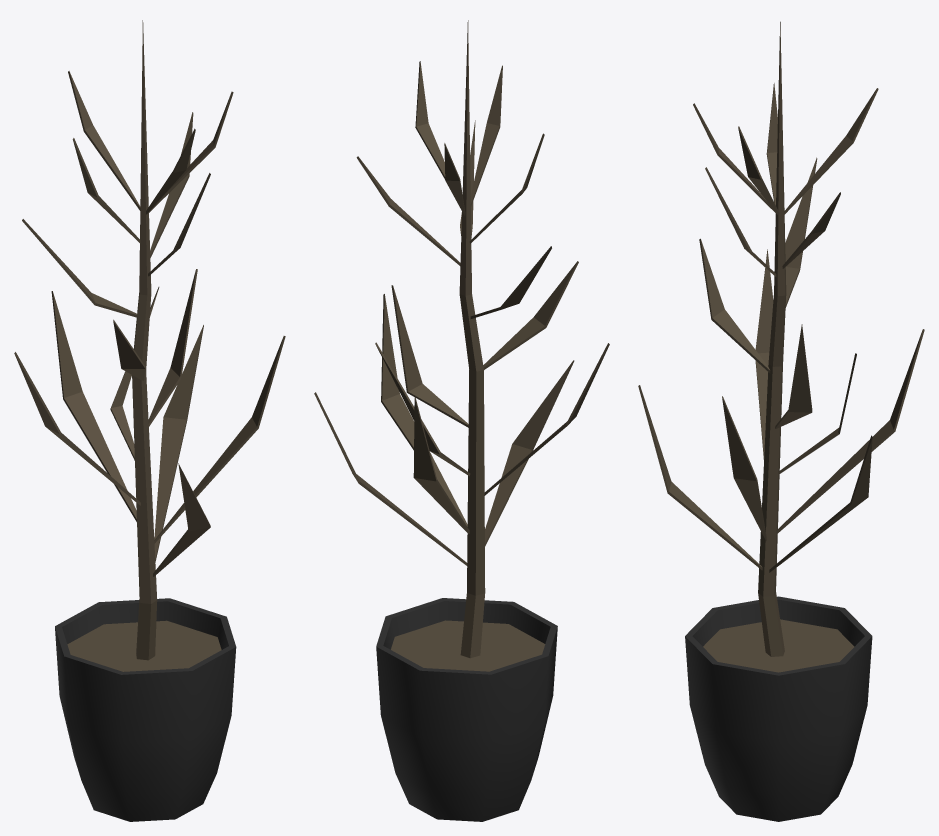
The model's file is Houseplant_8.gltf.
3 views of the same model, side by side, from view 1: azimuth 30°, elevation 25°; view 2: azimuth 150°, elevation 25°; view 3: azimuth 270°, elevation 25° (orthographic).
Visible parts, largest first — view 1: Houseplant_8; view 2: Houseplant_8; view 3: Houseplant_8.
Part boxes in pixels (left/top/right/bottom): Houseplant_8: left=14, top=20, right=285, bottom=821; Houseplant_8: left=314, top=20, right=609, bottom=821; Houseplant_8: left=638, top=21, right=924, bottom=821.
Bounding box in the file's own units: 0.5171 × 1.56 × 0.5171.
